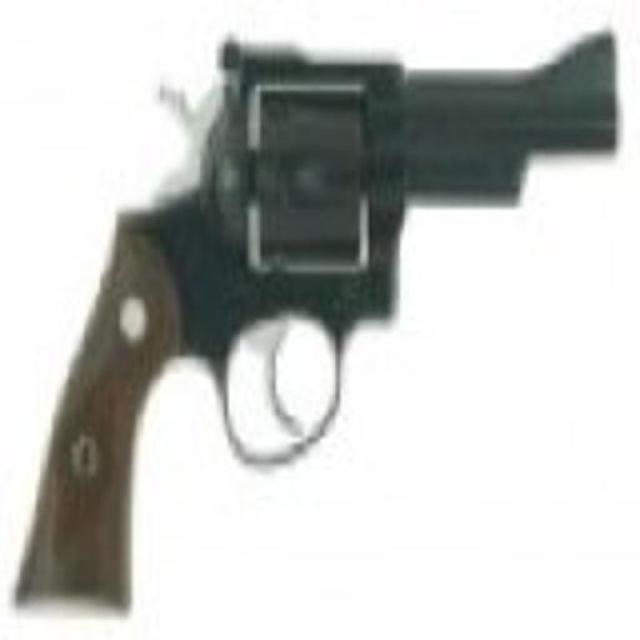pistol: (15, 21, 615, 617)
